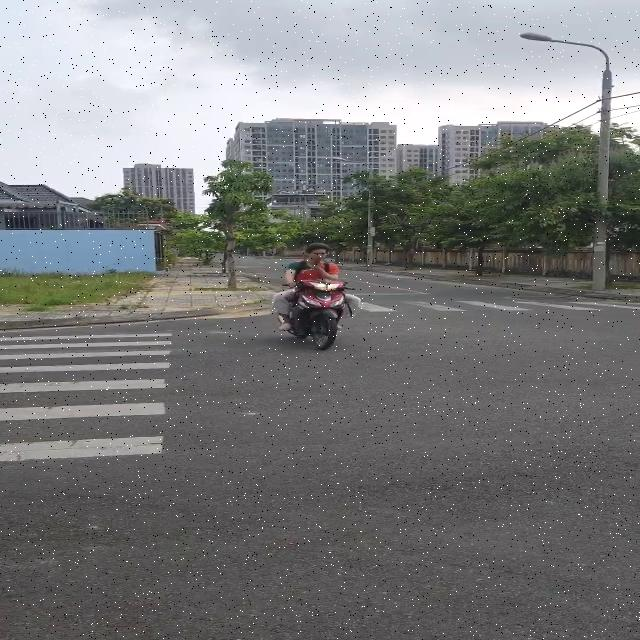no_helmet: (300, 242, 330, 265)
